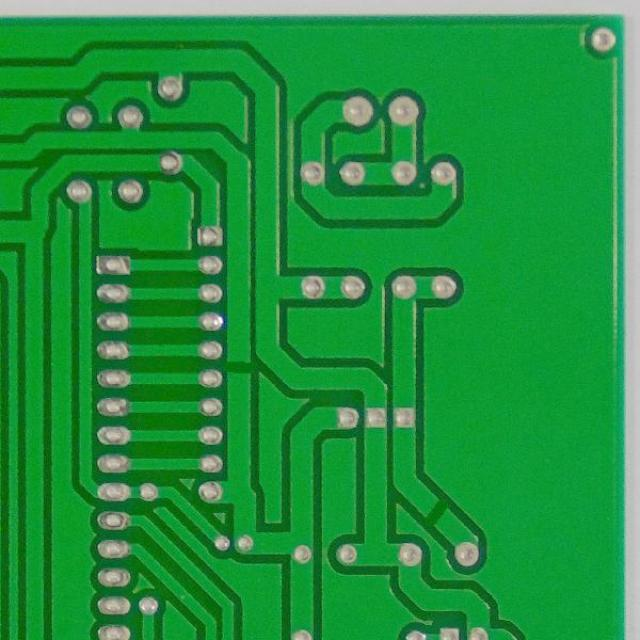Open_Circuit: (416, 492, 454, 531), (222, 352, 256, 387)
